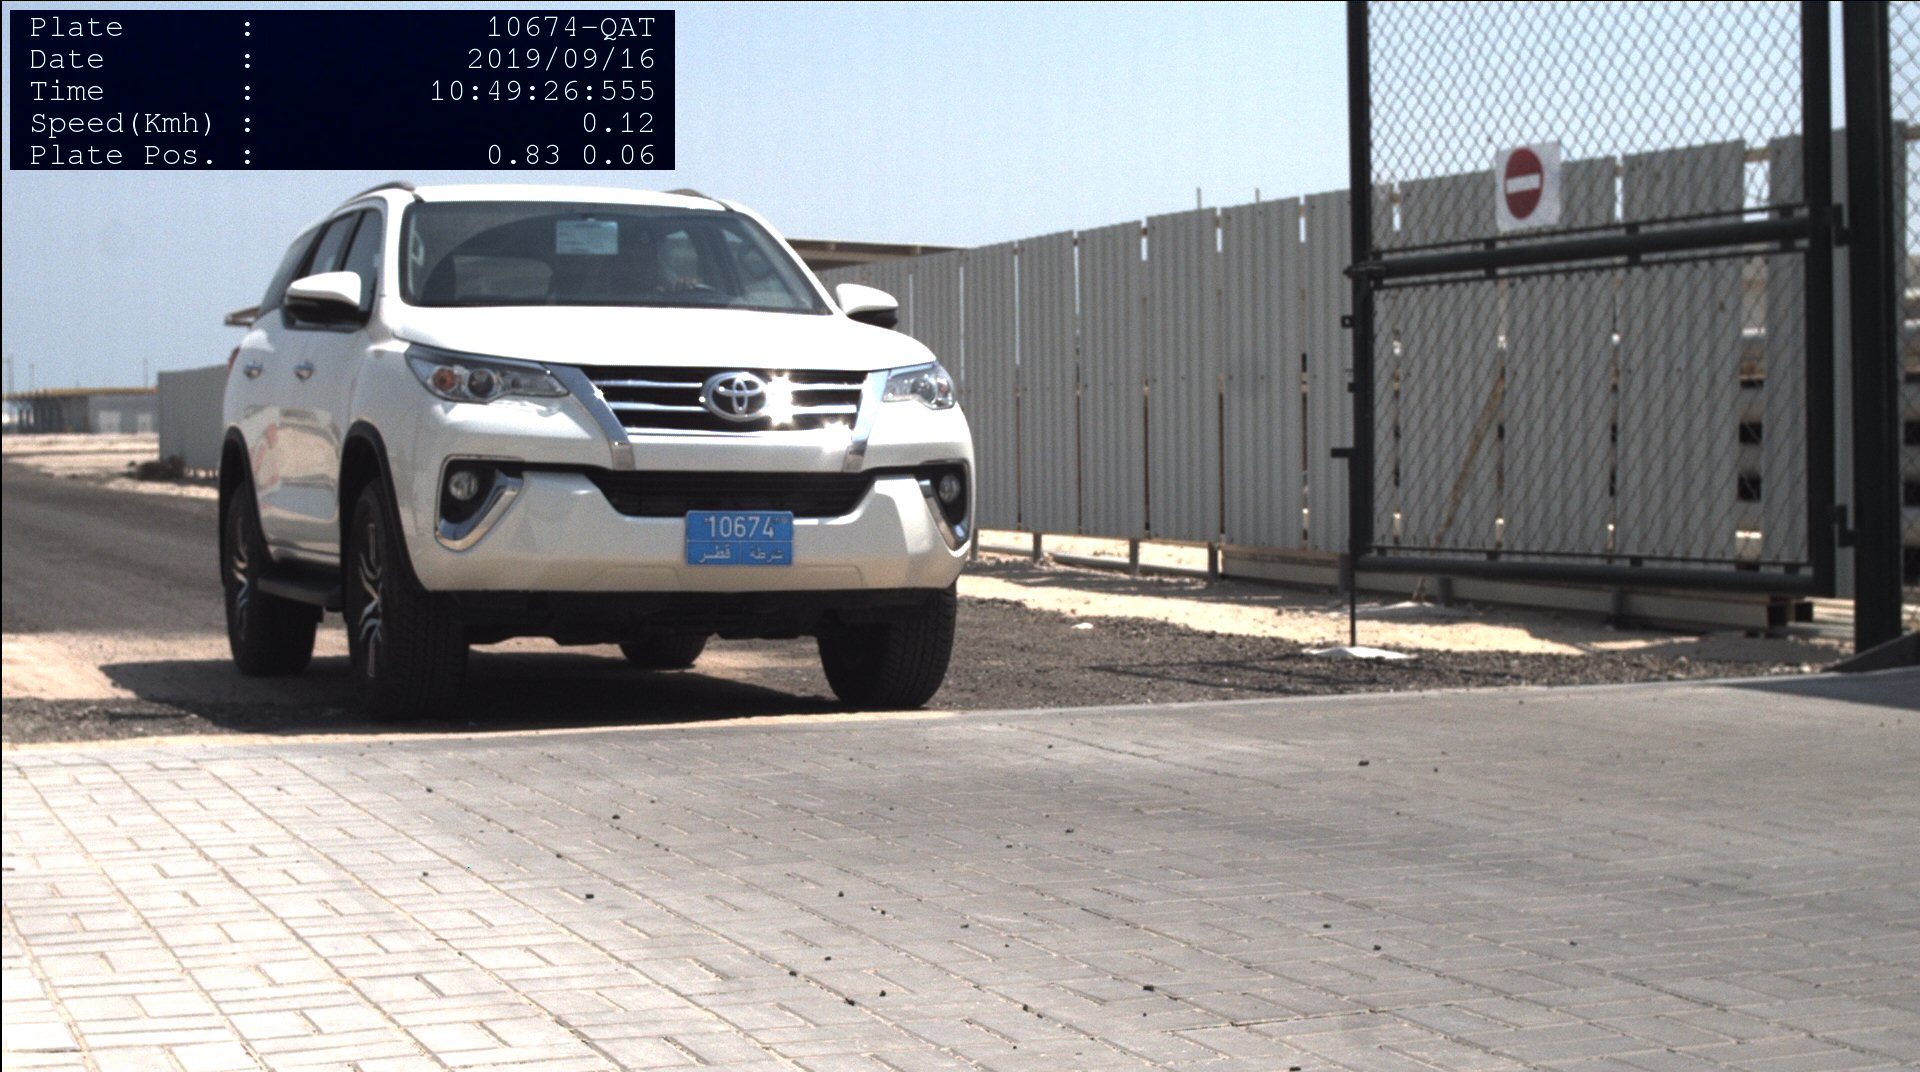License Plate: (687, 512, 796, 566)
